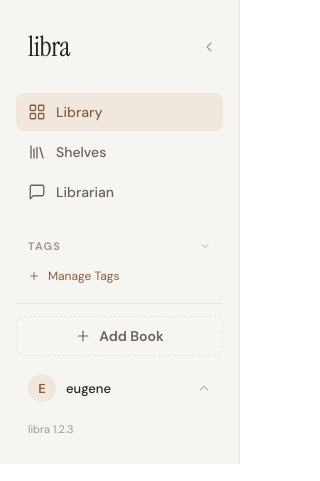
Test: Sidebar, collapsed › shows the account as an avatar alone, with the menu still reachable
Expected: the text "eugene" is shown, left=66, top=380, right=111, bottom=396
Click the button named "Collapse sidebar".
click(209, 46)  # box left=195, top=32, right=223, bottom=60
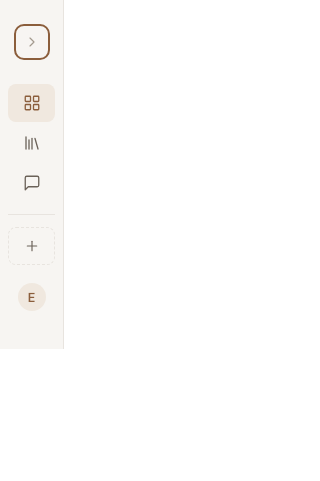
Click the button named "account".
click(32, 297)  # box left=8, top=273, right=55, bottom=321
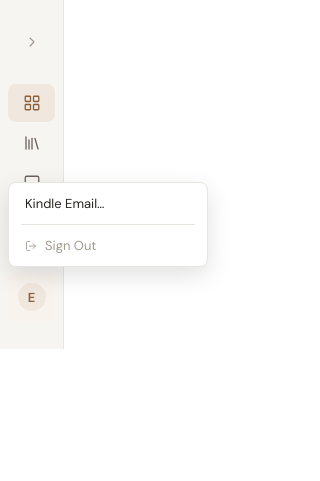
Now the menu item "Sign Out" is shown, box left=25, top=237, right=96, bottom=254
